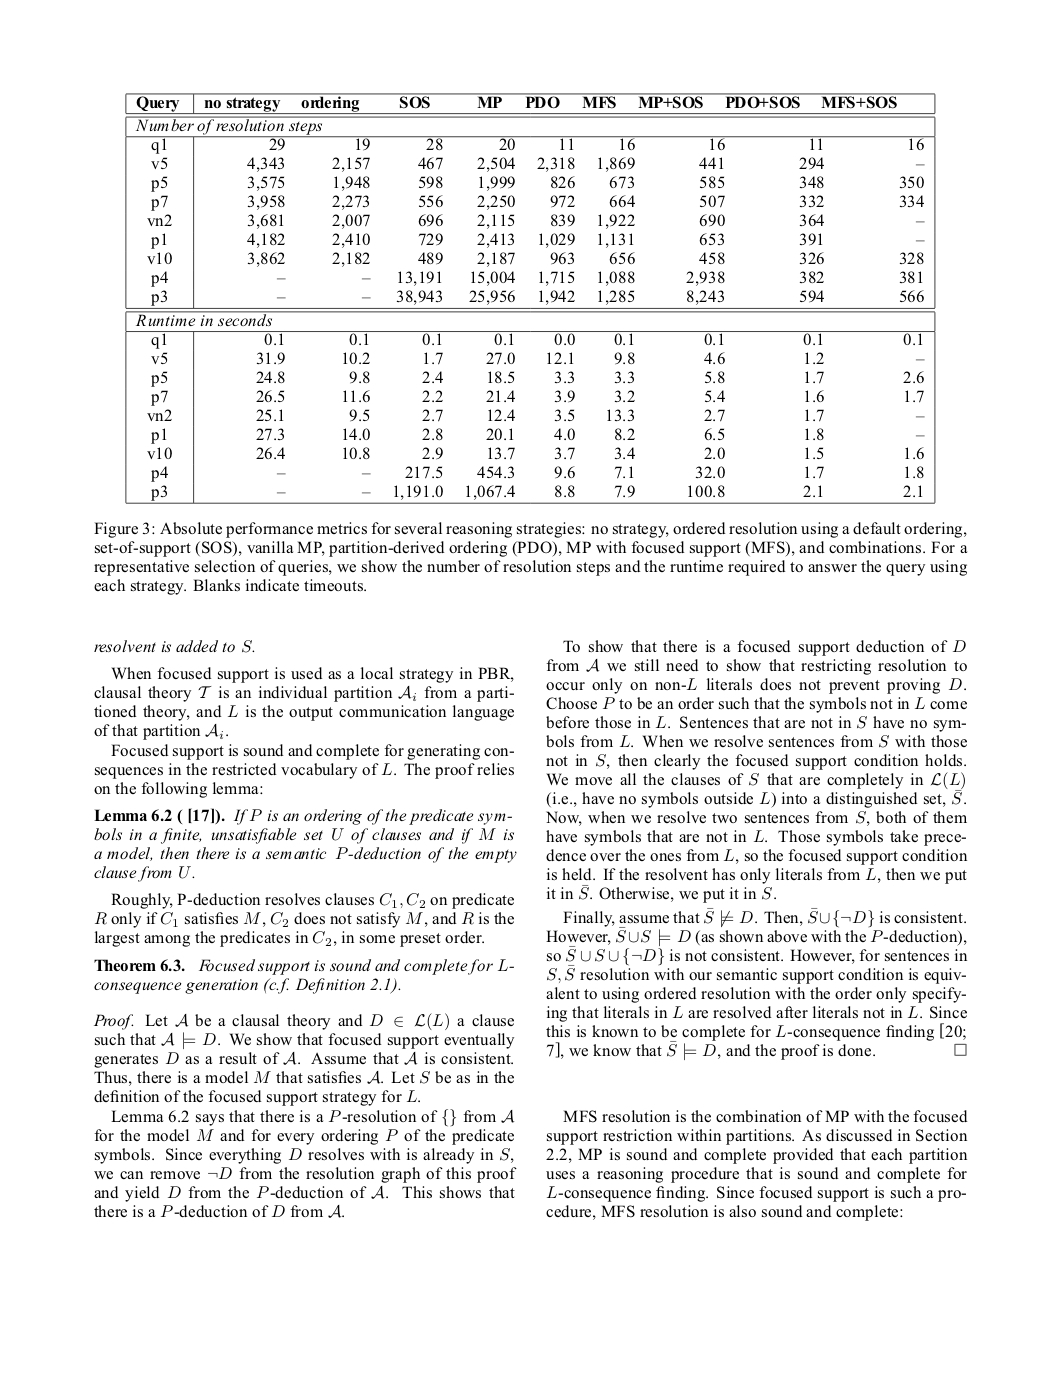Table: (125, 92, 935, 504)
